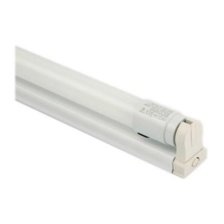light_bulb: (0, 37, 200, 151)
